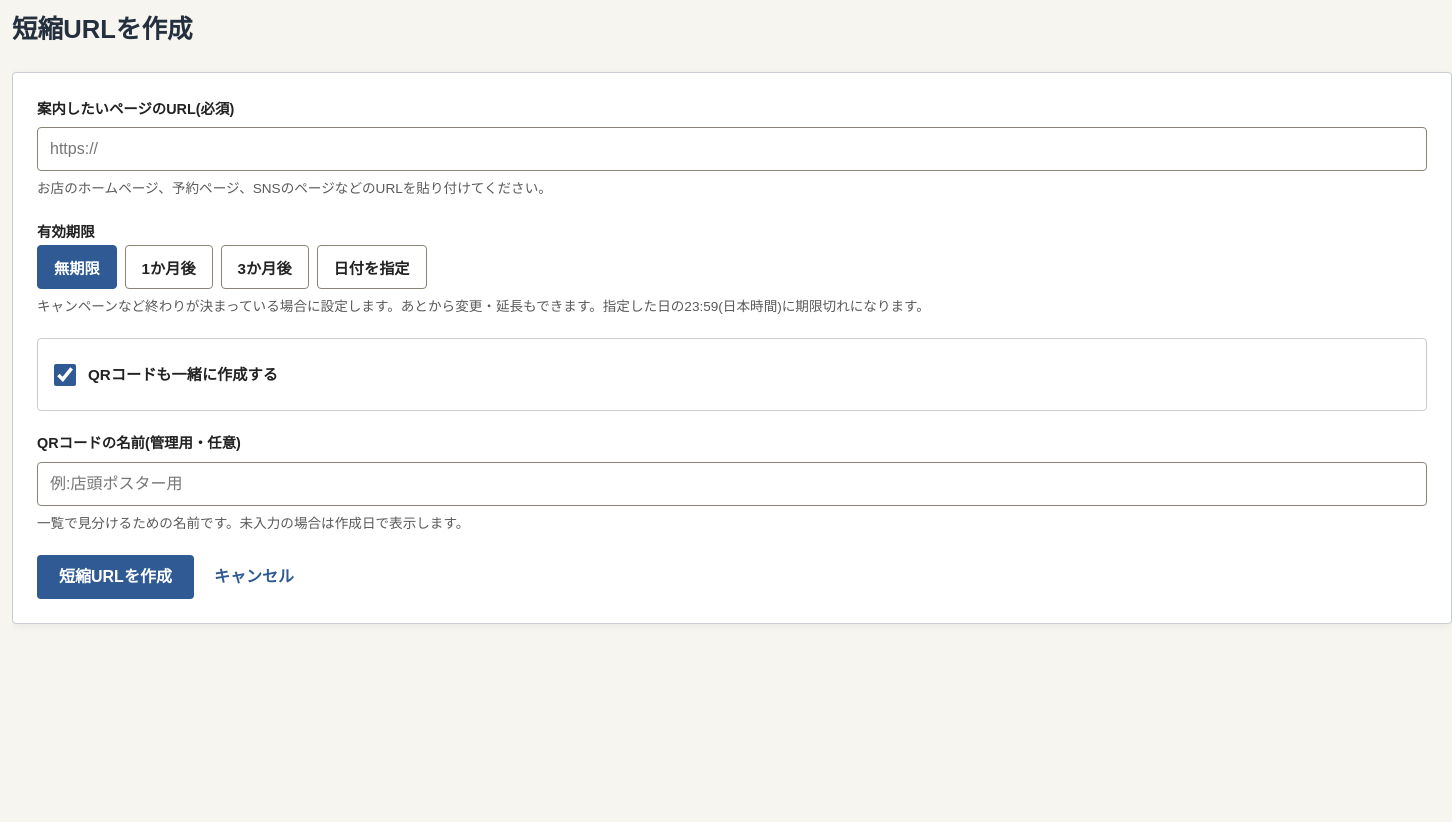
Test: LinkCreatePage › 短縮URLの作成に失敗した場合は、エラーを表示してQRコードは作成しない
Type "https://example.com/menu" into the field labelled "案内したいページのURL(必須)" at (732, 149), box 37,127 -> 1427,171
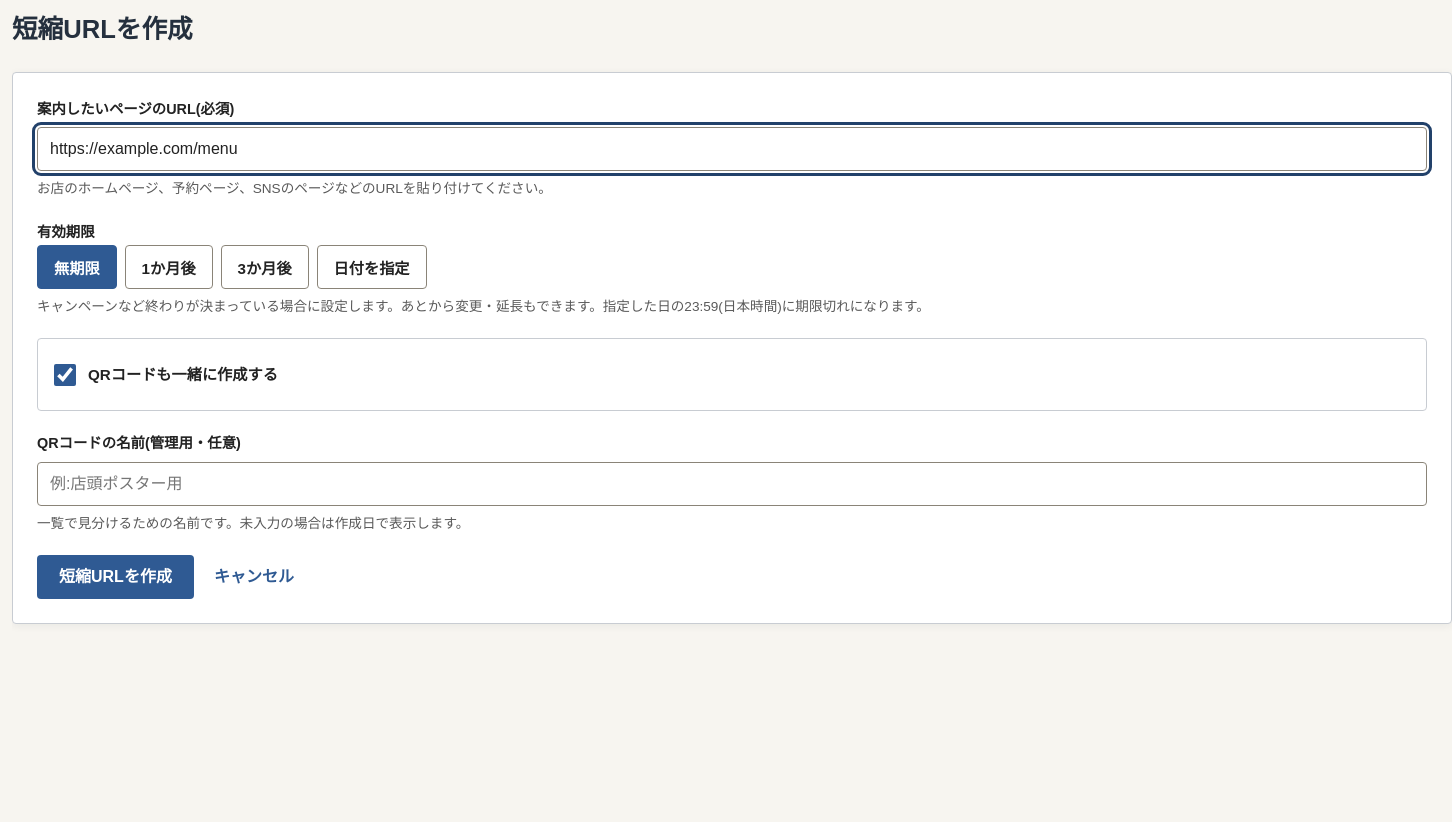
Click the button "短縮URLを作成" at (115, 577), box 37,555 -> 194,599
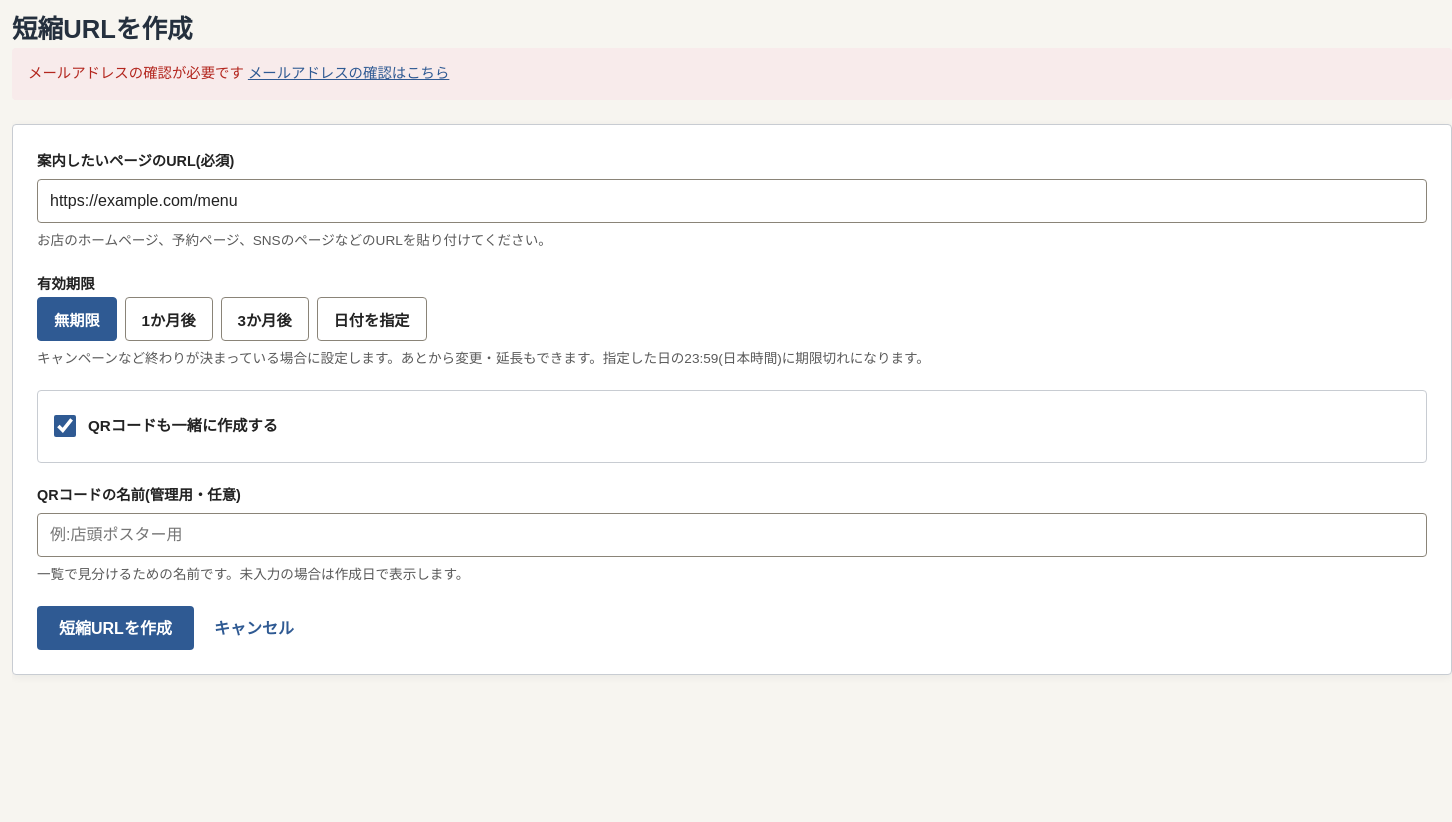
Check: the text "メールアドレスの確認が必要です メールアドレスの確認はこちら" is shown, box 12,48 -> 1451,100
Check: the link "メールアドレスの確認はこちら" is shown, box 248,65 -> 449,81
